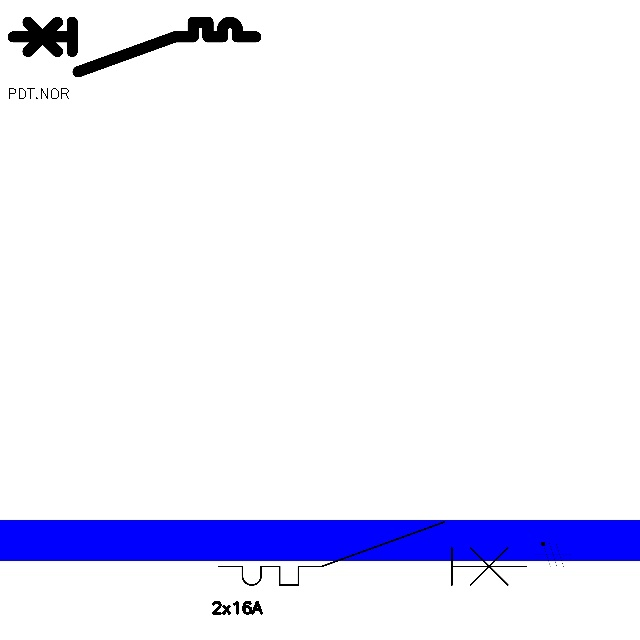interruptor_termomagnetico: (211, 514, 535, 593), (7, 16, 262, 78)
